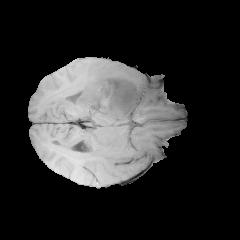glioma: (70, 65, 141, 116)
